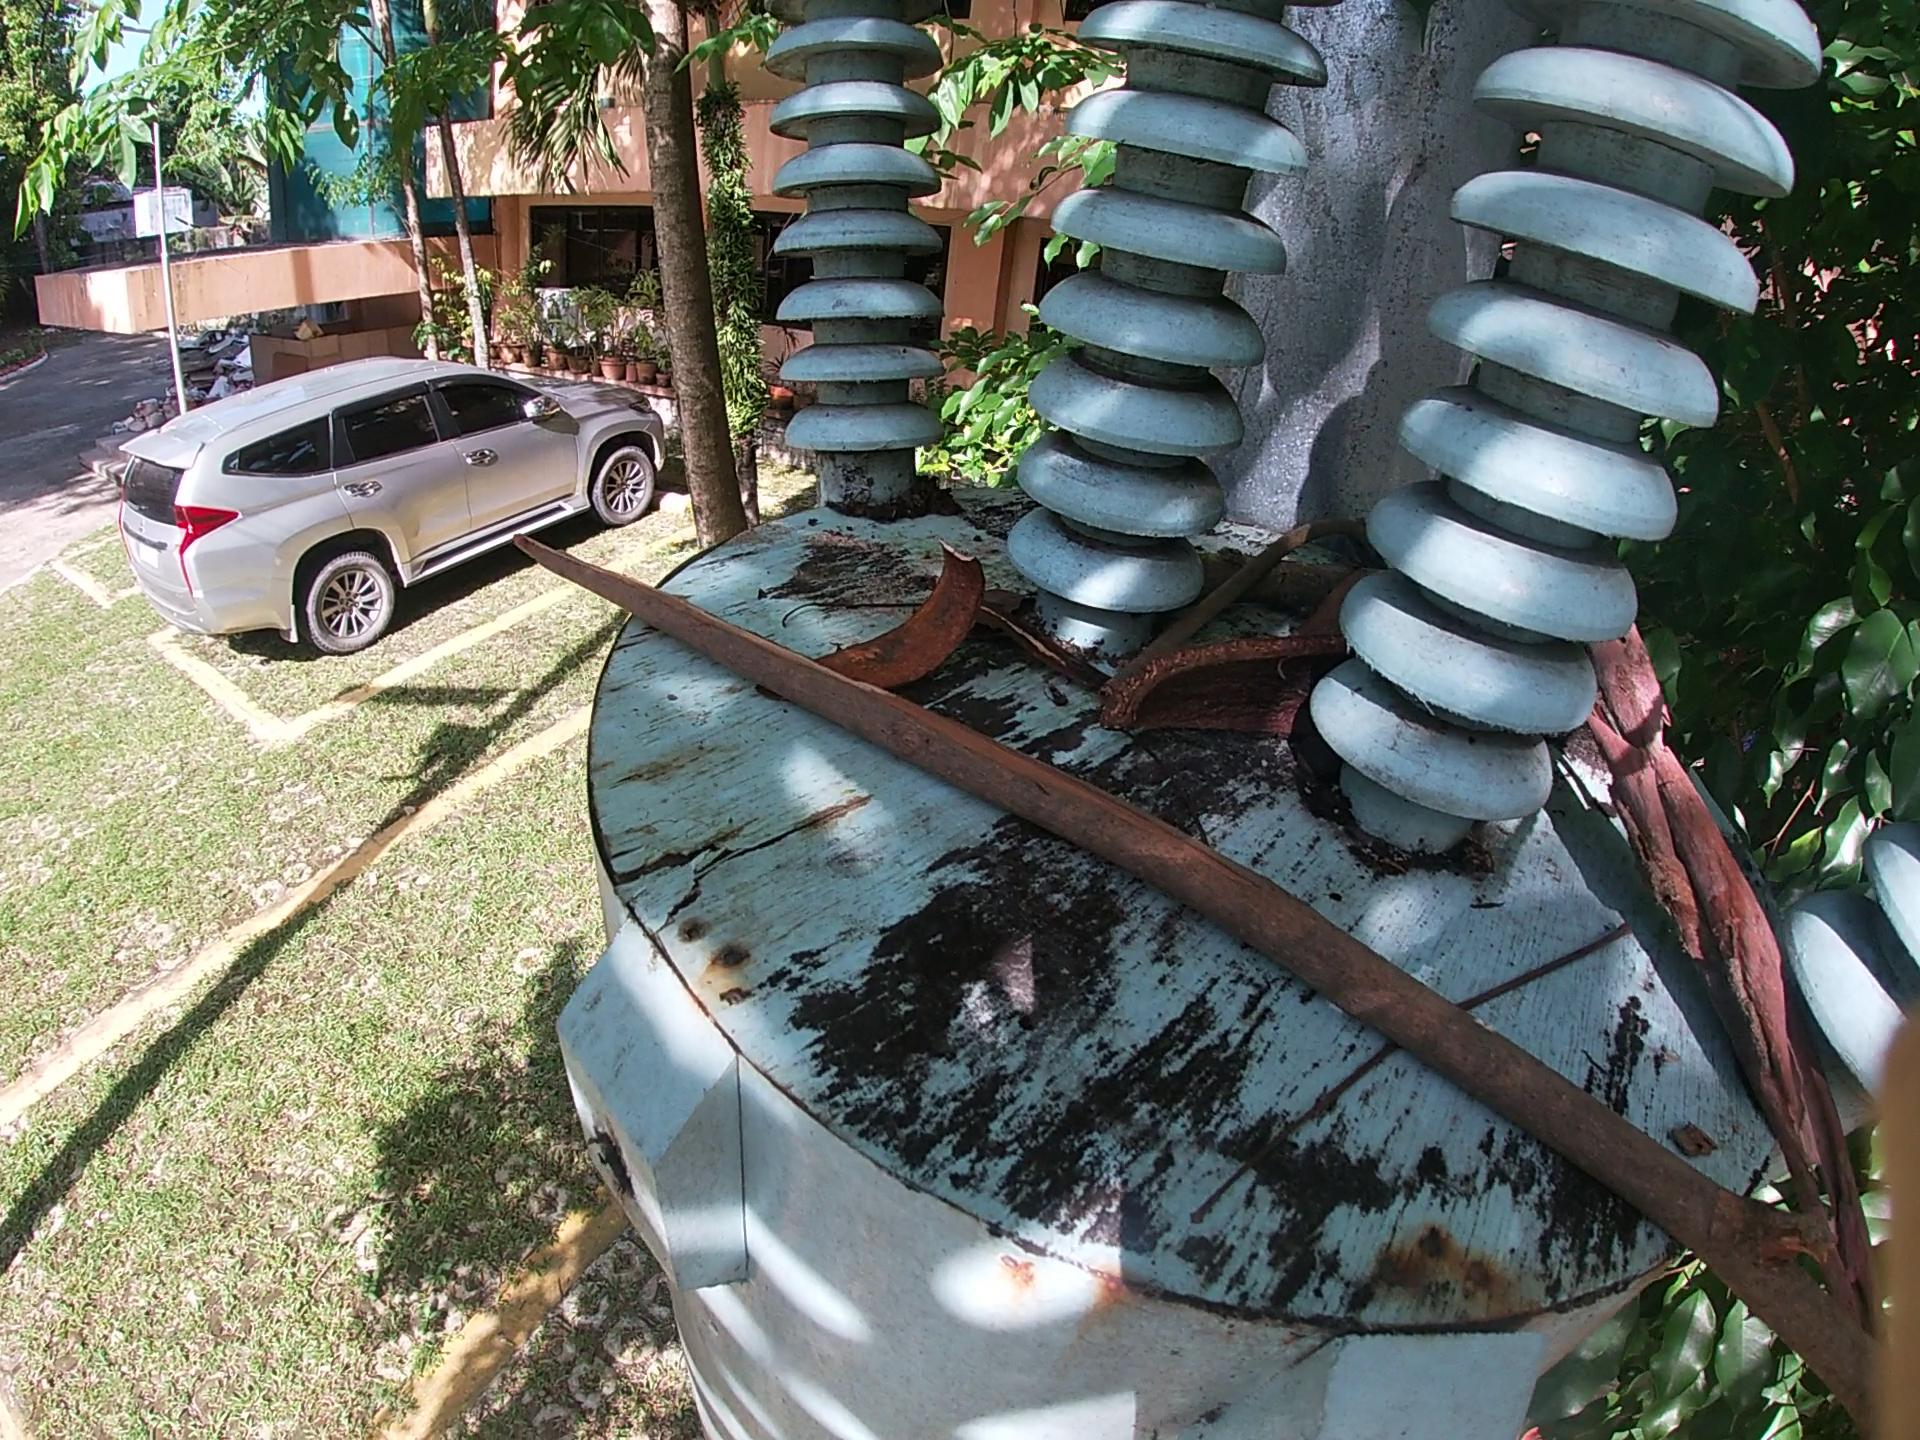leaf: (1276, 584, 1371, 637)
mahogany fruit: (810, 535, 996, 684), (1092, 650, 1353, 753)
tree branch: (1556, 579, 1893, 1420), (1169, 911, 1666, 1237), (1120, 513, 1339, 664), (980, 594, 1110, 708), (1194, 532, 1359, 597), (776, 588, 921, 629)
